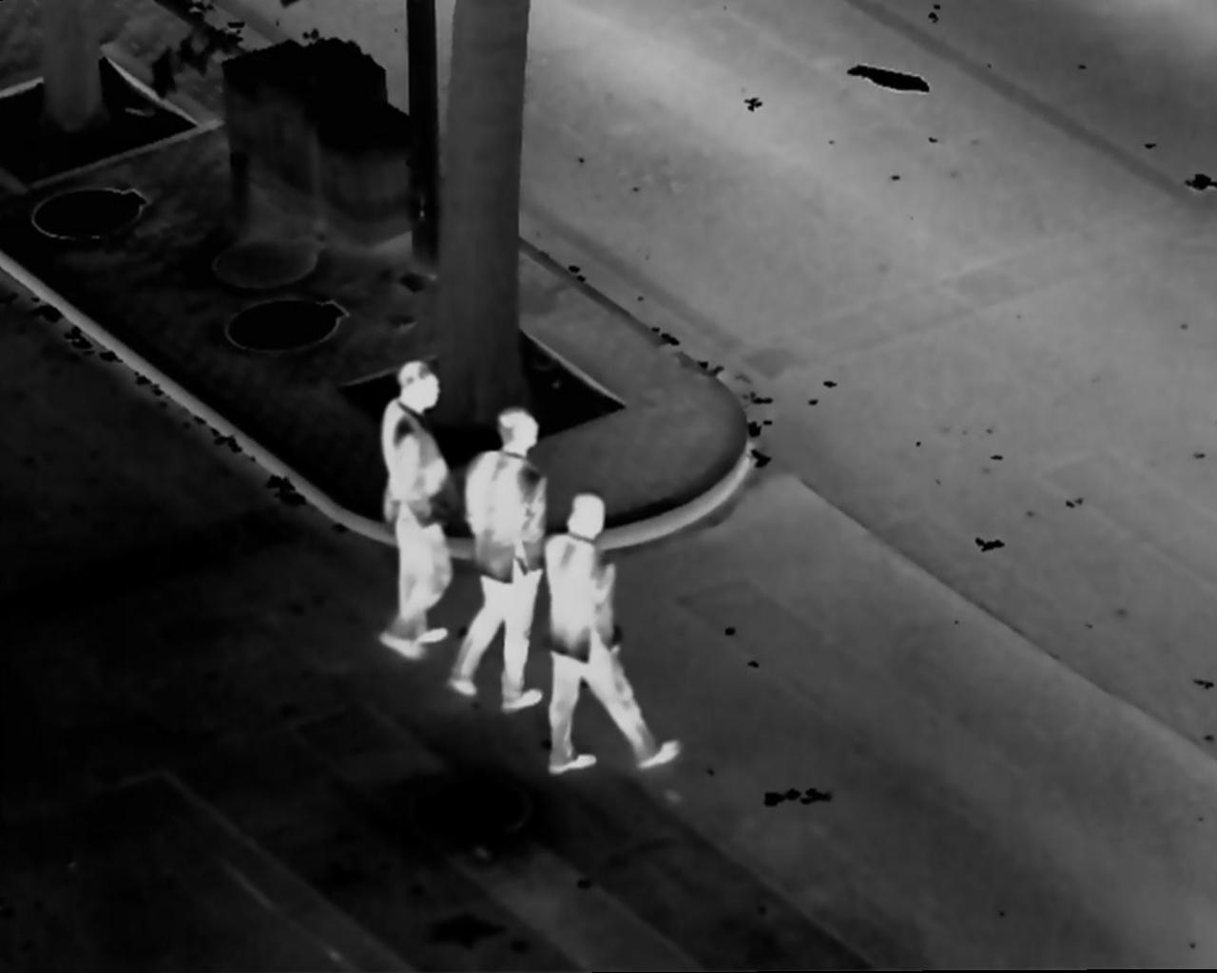person: (535, 485, 684, 775), (451, 398, 540, 713), (369, 353, 452, 658)
